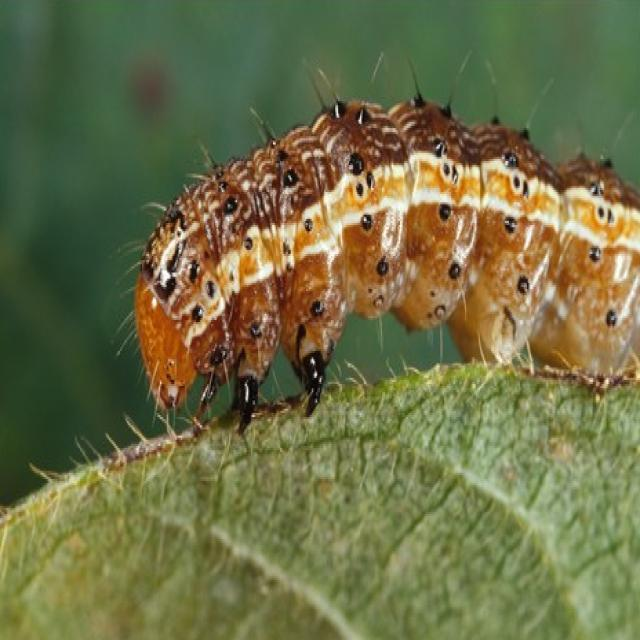pest-armyworm: (129, 90, 640, 439)
